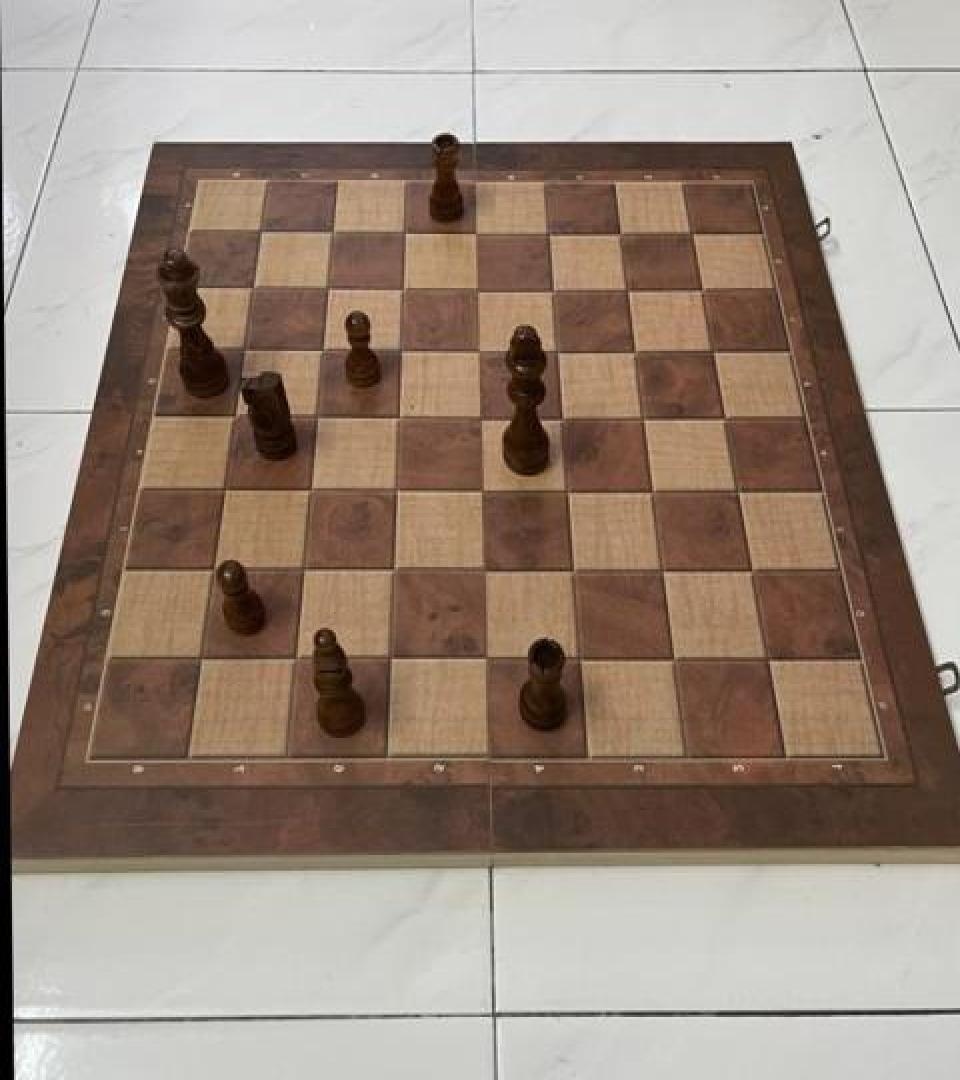xcorner: (235, 272, 269, 311), (309, 272, 343, 311), (217, 400, 251, 439), (243, 216, 277, 254), (315, 215, 349, 253), (386, 215, 420, 253), (458, 215, 492, 253), (530, 215, 564, 253), (602, 214, 636, 252), (674, 214, 708, 252), (384, 271, 418, 309), (459, 271, 493, 309), (534, 271, 568, 309), (609, 270, 643, 308), (684, 270, 718, 308), (226, 333, 260, 371), (304, 333, 338, 371), (382, 333, 416, 371), (460, 332, 494, 370), (538, 332, 572, 370), (616, 332, 650, 370), (694, 332, 728, 370), (298, 400, 332, 438), (380, 400, 414, 438), (461, 400, 495, 438), (543, 398, 577, 436), (624, 398, 658, 436), (705, 398, 739, 436), (206, 472, 240, 510), (292, 472, 326, 510), (377, 472, 411, 510), (462, 472, 496, 510), (547, 472, 581, 510), (633, 472, 667, 510), (718, 470, 752, 508), (195, 552, 229, 590), (285, 552, 319, 590), (374, 552, 408, 590), (463, 552, 497, 590), (553, 552, 587, 590), (642, 550, 676, 588), (731, 550, 765, 588), (183, 642, 217, 680), (277, 640, 311, 678), (371, 640, 405, 678), (465, 639, 499, 677), (559, 639, 593, 677), (653, 639, 687, 677), (746, 638, 780, 676)
